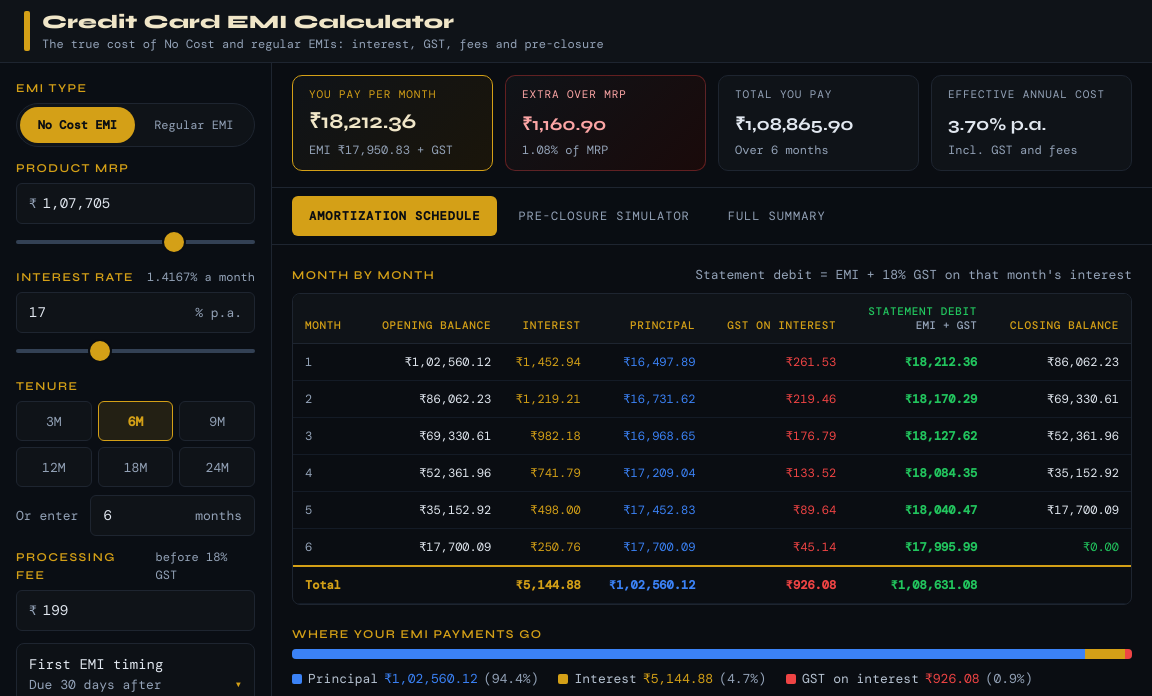
Scenario: responsive shell & drawer › renders pre-closure cards and table without the redundant final month
What coordinates should you click on to do the following:
click the tab "Pre-closure Simulator"
I would click on:
 (604, 216)
Its box is [501, 196, 707, 236].
(page scrolled)
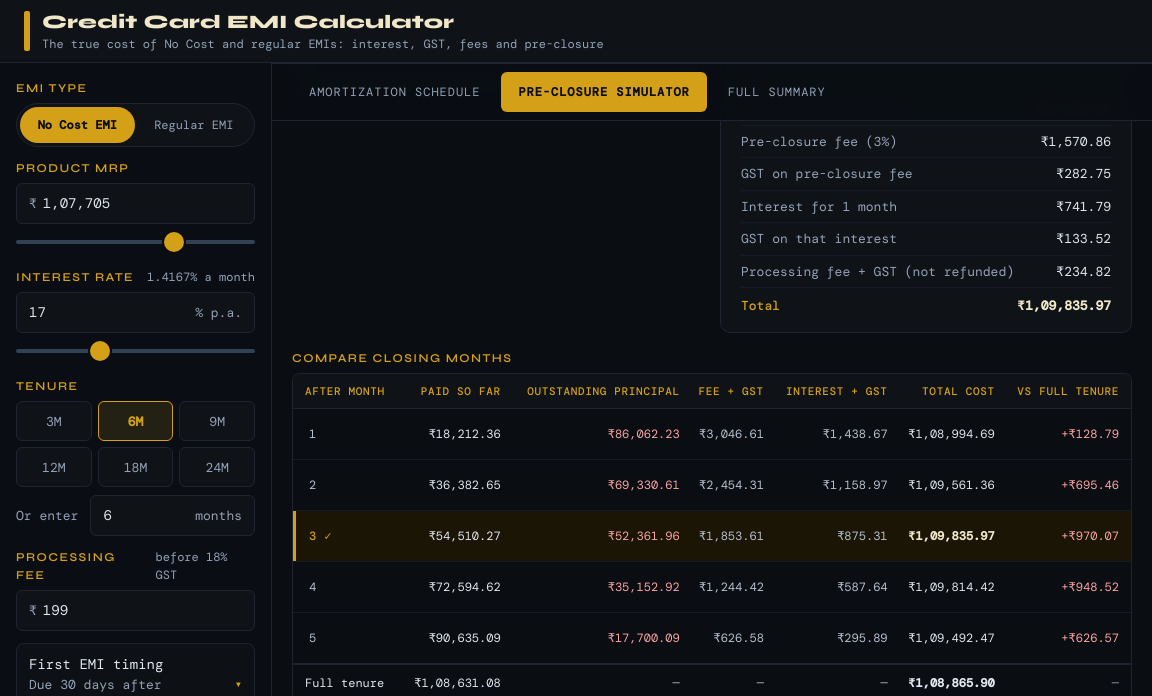
Check: the column heading "Outstanding principal" is shown, box [507, 374, 686, 409]
